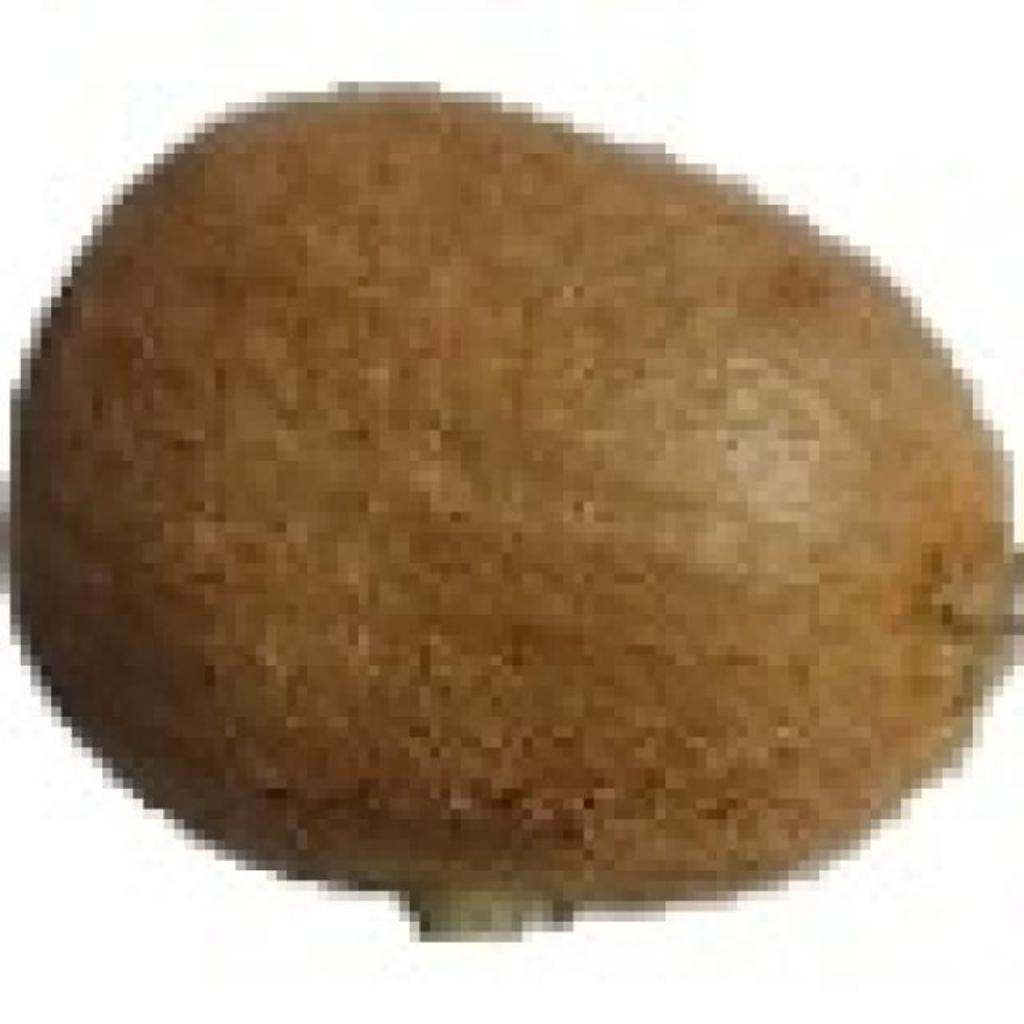kiwi: (31, 82, 1014, 911)
